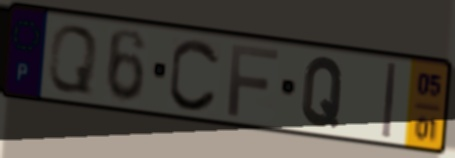6: (105, 26, 148, 106)
C: (166, 35, 223, 115)
F: (225, 42, 282, 119)
I: (380, 59, 400, 142)
Q: (45, 22, 101, 97), (299, 54, 347, 131)
